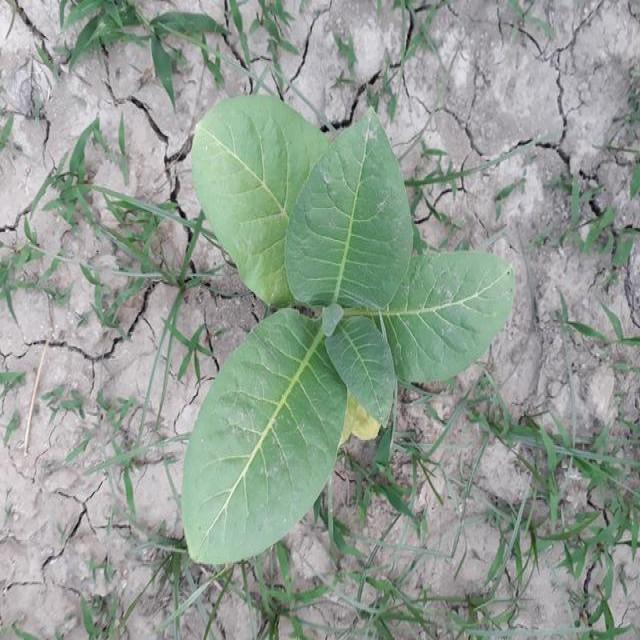crop: (190, 99, 510, 564)
